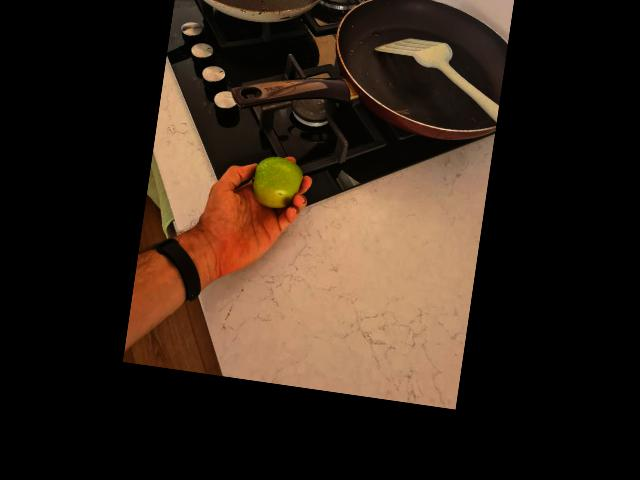apple: (244, 153, 311, 221)
